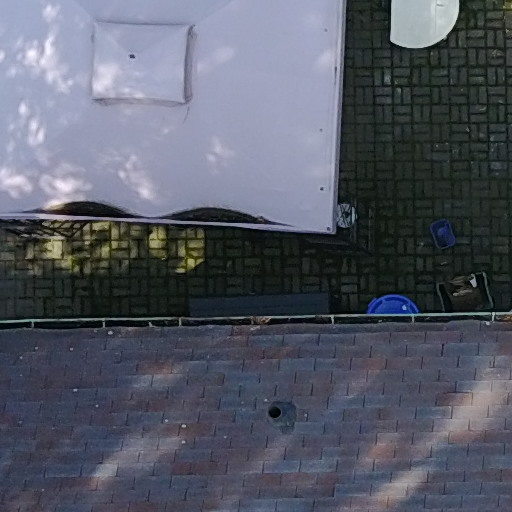container: (361, 288, 418, 327), (427, 217, 455, 249)
